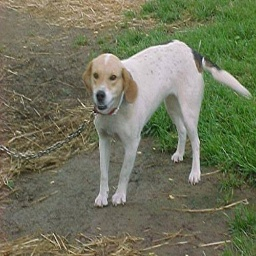dog: (78, 36, 252, 210)
